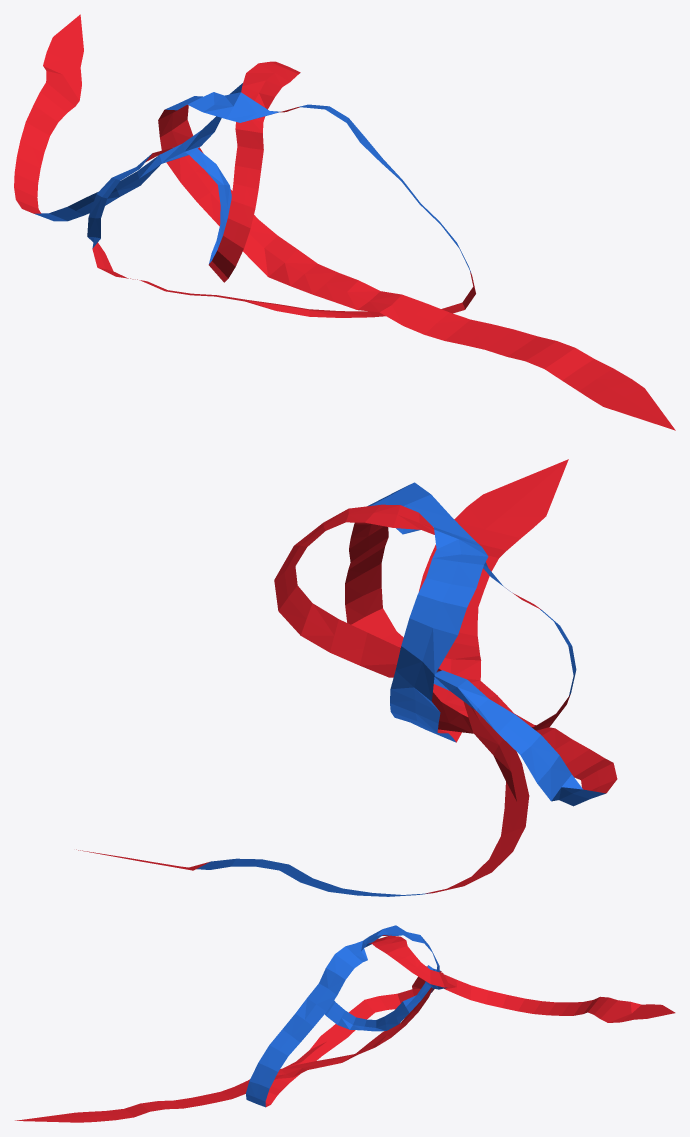
3 views of the same model, one above another, from view 1: azimuth 30°, elevation 25°; view 2: azimuth 150°, elevation 25°; view 3: azimuth 270°, elevation 25° (orthographic). The views are drawn at different scales.
Parts seen in each view (by area): view 1: 1561_back; view 2: 1561_back; view 3: 1561_back.
Part boxes in pixels (x1=…): 1561_back: x1=14, y1=14, x2=675, y2=430; 1561_back: x1=76, y1=459, x2=617, y2=896; 1561_back: x1=15, y1=925, x2=675, y2=1122.
Bounding box in the file's own units: 0.7185 × 0.4223 × 1.86.
